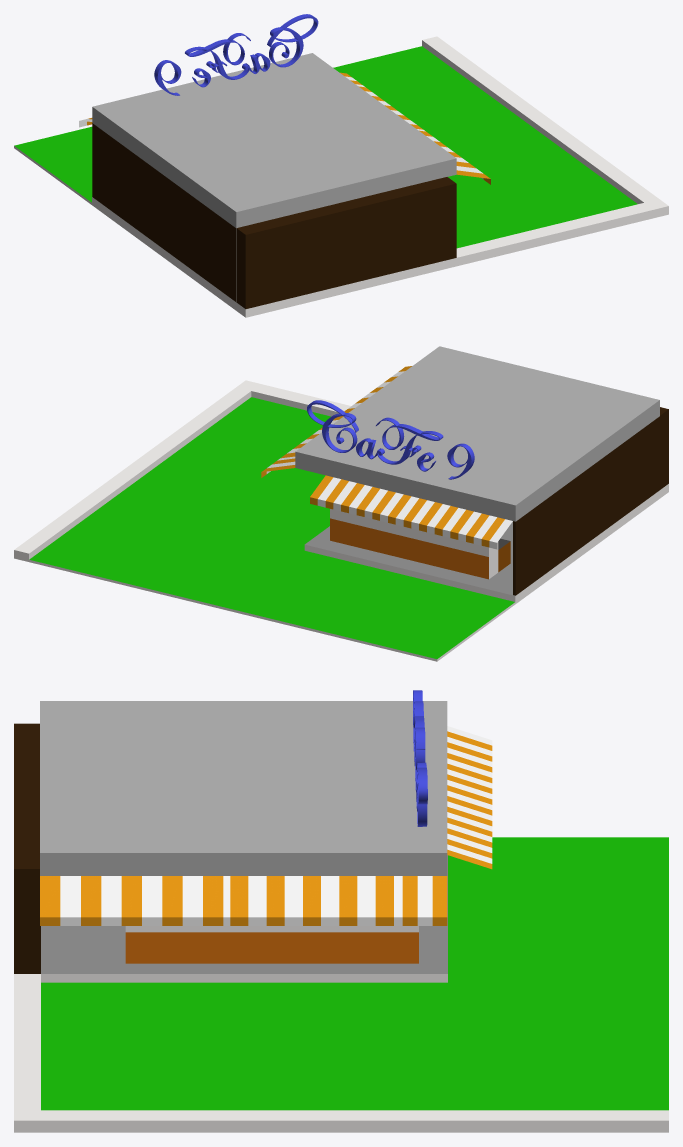
File: cAFE01.fbx
The picture shows the model from 3 angles, top to bottom: view 1: azimuth 30°, elevation 25°; view 2: azimuth 150°, elevation 25°; view 3: azimuth 270°, elevation 25°; orthographic projection. The views are drawn at different scales.
Parts seen in each view (by area): view 1: pCube2, pCube1, dsad; view 2: pCube2, pCube1, dsad; view 3: pCube2, pCube1, dsad.
Boxes of the visible parts, x1,y1,x2,y2 form: pCube2: (14, 36, 668, 317); pCube1: (79, 53, 490, 302); dsad: (154, 14, 318, 95); pCube2: (14, 380, 668, 661); pCube1: (261, 346, 659, 595); dsad: (307, 400, 474, 479); pCube2: (14, 723, 668, 1132); pCube1: (40, 701, 492, 925); dsad: (413, 690, 427, 826).
Size of the model in its own units: 16.24 by 5.37 by 15.41.
2 materials, 1 textured.
